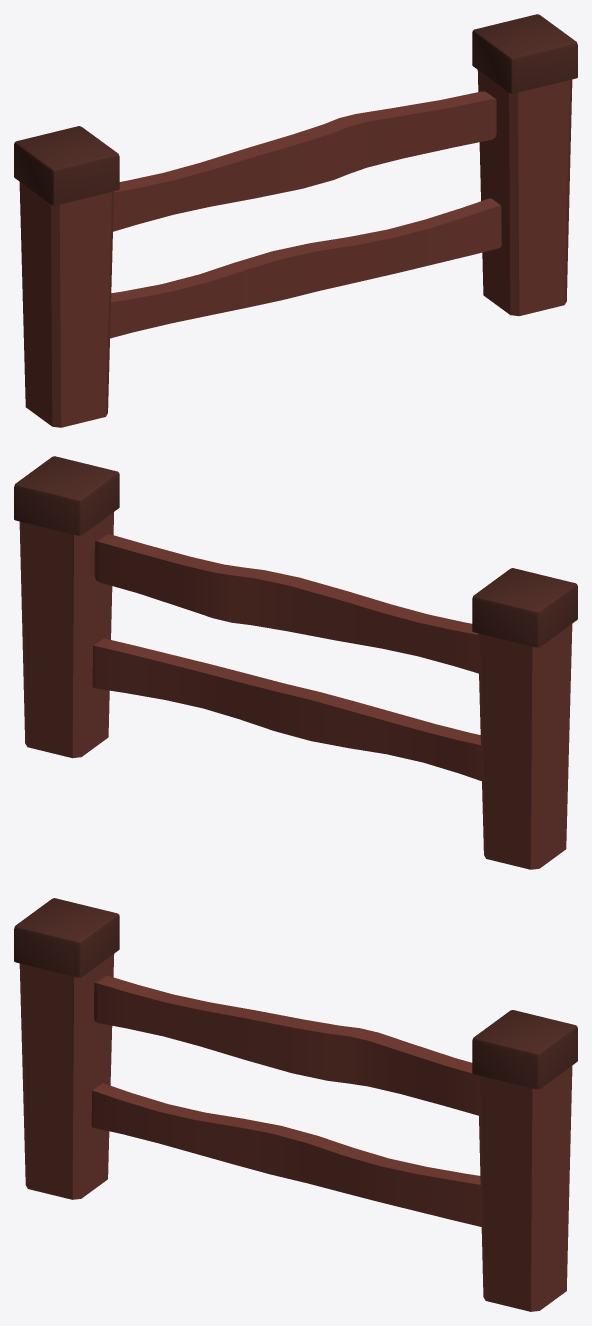
Rendered from fence01.fbx.
3 views of the same model, one above another, from view 1: azimuth 30°, elevation 25°; view 2: azimuth 150°, elevation 25°; view 3: azimuth 330°, elevation 25° (orthographic).
Parts seen in each view (by area): view 1: fence01; view 2: fence01; view 3: fence01.
Part boxes in pixels (left/top/right/bottom): fence01: left=14, top=14, right=577, bottom=427; fence01: left=14, top=456, right=577, bottom=869; fence01: left=14, top=898, right=577, bottom=1311.
Bounding box in the file's own units: 2.17 × 1.04 × 0.29.
